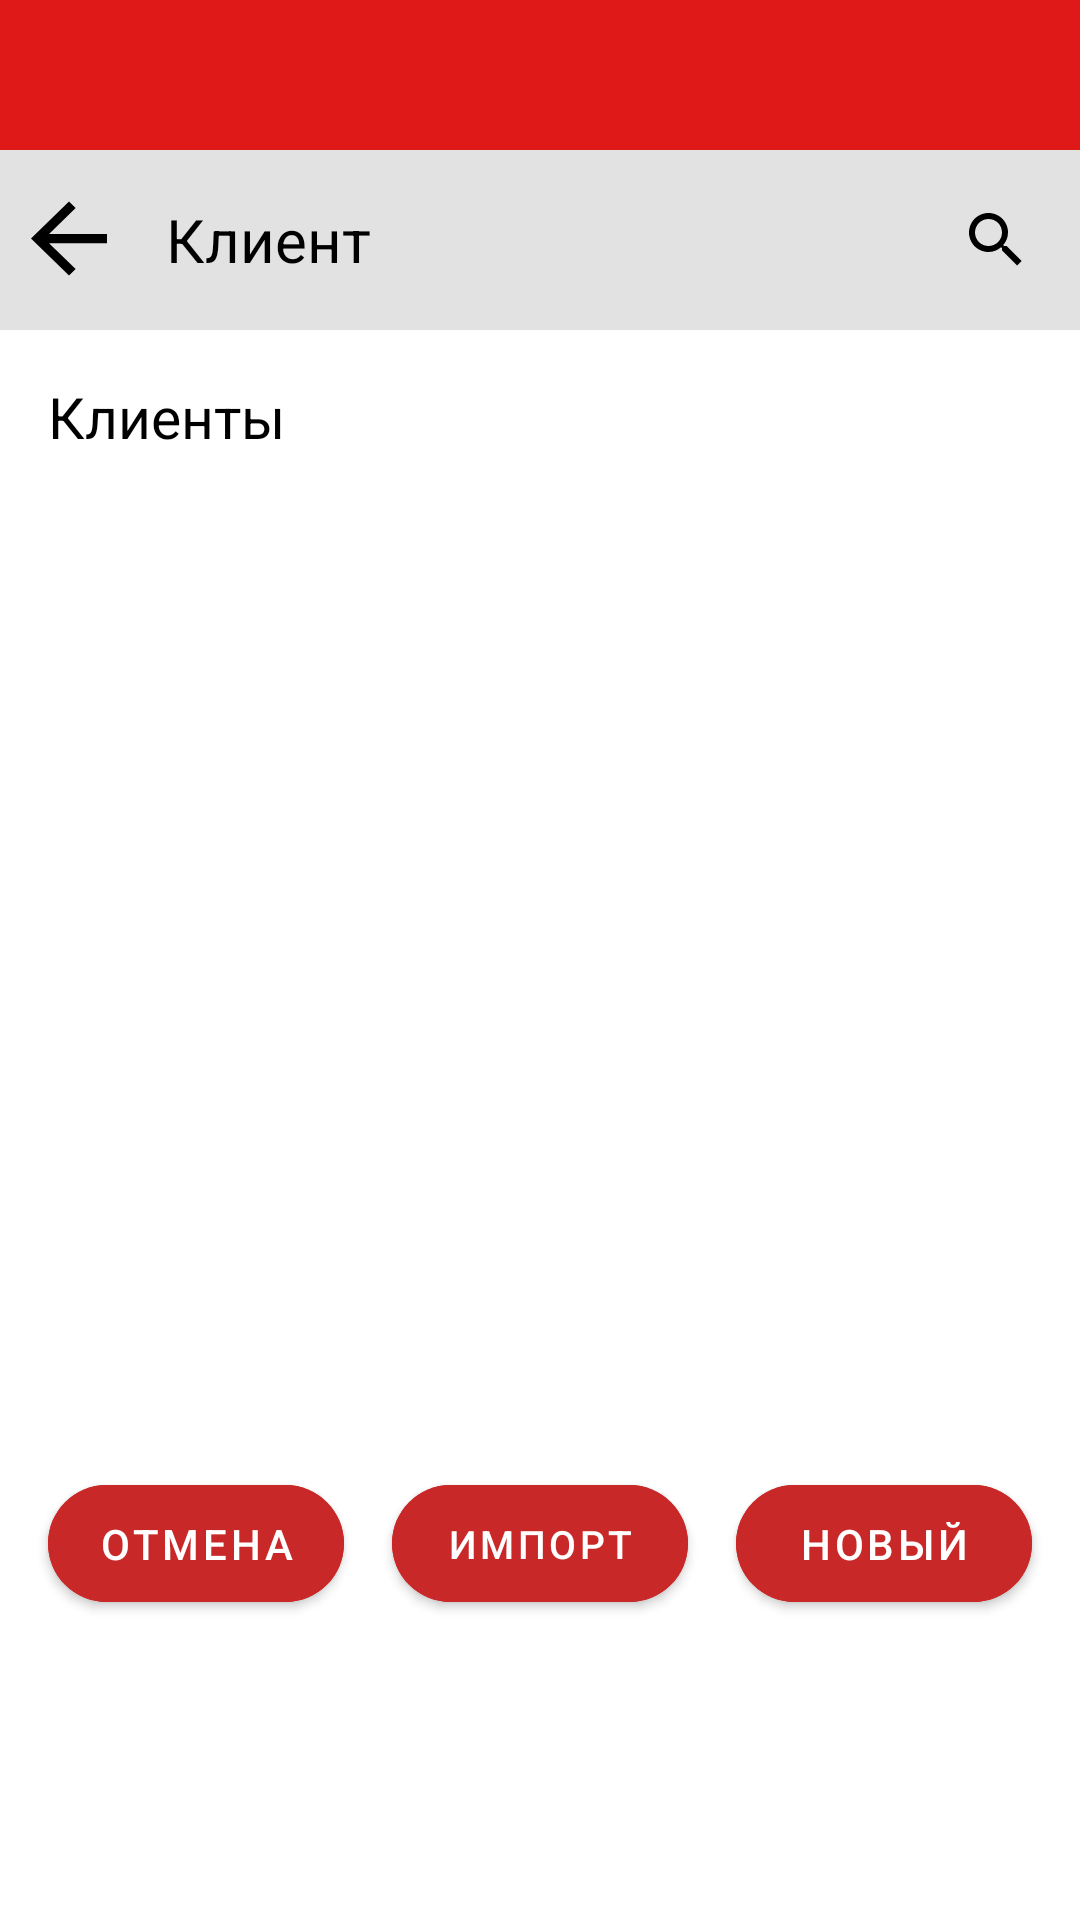

Icons on this 1080x1920 Android screen, each with the point to tap as (x=x, y=y):
back to report: (x=69, y=238)
